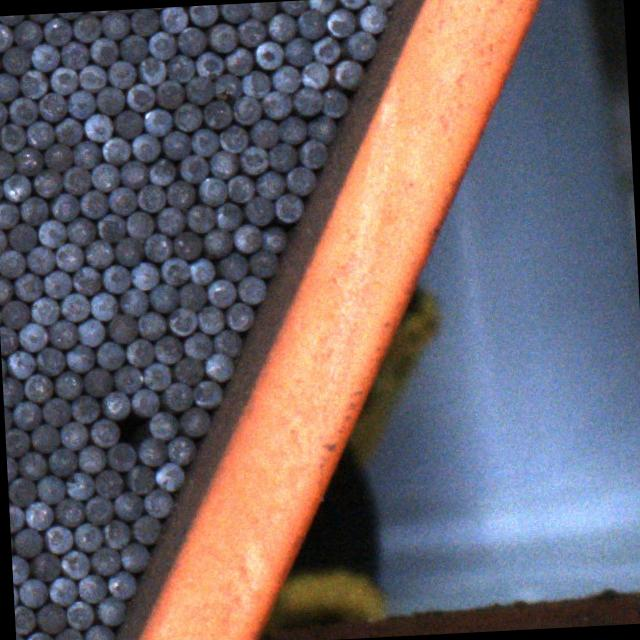tool: (331, 59, 363, 90), (35, 603, 66, 634), (344, 29, 375, 59), (292, 86, 323, 116), (192, 380, 222, 410), (286, 166, 316, 196), (60, 548, 90, 578), (148, 282, 178, 312), (30, 550, 60, 580), (284, 36, 314, 66), (178, 408, 208, 438), (112, 490, 142, 520), (33, 168, 63, 198), (162, 382, 192, 412), (208, 22, 238, 52), (14, 528, 44, 558), (203, 100, 232, 130), (36, 474, 65, 504), (249, 117, 278, 147), (95, 212, 124, 242), (177, 27, 206, 57), (253, 40, 282, 70), (72, 524, 101, 554), (240, 145, 269, 175), (272, 65, 302, 94), (164, 180, 193, 210), (106, 442, 136, 471), (119, 542, 148, 572), (298, 139, 328, 168), (90, 546, 120, 575), (106, 570, 135, 600), (233, 222, 262, 252), (154, 462, 183, 492), (218, 123, 248, 152), (114, 237, 143, 267), (143, 488, 172, 518), (154, 80, 183, 110), (129, 260, 158, 290), (205, 352, 234, 382), (40, 396, 70, 425), (84, 368, 114, 397), (24, 247, 54, 276), (48, 448, 78, 477), (100, 390, 129, 420), (48, 319, 78, 348), (14, 272, 43, 302), (166, 434, 195, 464), (308, 115, 338, 144), (245, 196, 274, 226), (296, 8, 325, 38), (13, 399, 42, 429), (167, 308, 197, 337), (143, 360, 172, 390), (202, 228, 231, 258), (218, 253, 248, 282), (248, 248, 277, 278), (260, 91, 290, 120), (132, 515, 162, 544), (42, 16, 72, 45), (118, 159, 147, 188), (66, 89, 95, 118), (66, 601, 95, 630), (82, 113, 111, 142), (114, 365, 143, 394), (29, 296, 58, 325), (232, 96, 261, 125), (101, 10, 130, 39), (126, 339, 155, 368), (107, 315, 136, 344), (70, 395, 99, 424), (19, 578, 48, 607), (76, 573, 105, 602), (154, 336, 183, 365), (172, 230, 201, 259), (83, 496, 112, 525), (48, 67, 77, 96), (35, 348, 64, 377), (59, 41, 88, 70), (186, 204, 215, 233), (67, 217, 96, 246), (325, 7, 354, 36), (30, 423, 59, 452), (119, 34, 148, 63), (65, 472, 94, 501), (91, 419, 120, 448), (53, 498, 82, 527), (95, 342, 124, 371), (85, 240, 114, 269), (13, 147, 42, 176), (50, 193, 79, 222), (76, 445, 105, 474), (114, 110, 143, 139), (65, 343, 94, 372), (94, 468, 123, 497), (72, 13, 101, 42), (173, 355, 202, 384), (274, 192, 302, 222), (138, 436, 166, 466), (278, 116, 308, 144), (100, 263, 128, 293), (8, 98, 38, 126), (60, 291, 88, 321), (17, 452, 45, 482), (126, 464, 154, 494), (48, 576, 76, 606), (2, 44, 30, 74), (79, 188, 107, 218), (130, 8, 160, 36), (186, 75, 214, 105), (255, 170, 285, 198), (178, 280, 206, 310), (102, 519, 130, 549), (71, 264, 99, 294), (12, 20, 40, 50), (226, 302, 254, 332), (268, 142, 296, 172), (95, 85, 123, 114), (102, 138, 131, 166), (19, 323, 47, 352), (148, 32, 176, 61), (165, 53, 193, 82), (107, 187, 135, 216), (23, 373, 51, 402), (198, 177, 226, 206), (88, 37, 116, 66), (236, 276, 265, 304), (144, 234, 172, 263), (18, 71, 46, 100), (174, 102, 202, 131), (160, 256, 189, 284), (7, 351, 35, 380), (132, 134, 160, 163), (90, 163, 118, 192), (178, 154, 207, 182), (190, 128, 218, 157), (60, 422, 88, 451), (196, 305, 224, 334), (130, 387, 158, 416), (214, 328, 243, 356), (136, 311, 164, 340), (44, 142, 72, 171), (144, 106, 173, 134), (119, 288, 148, 316), (54, 370, 82, 399), (8, 222, 37, 250), (125, 210, 153, 239), (358, 5, 386, 34), (184, 331, 213, 359), (223, 46, 252, 74), (53, 116, 82, 144), (210, 151, 238, 180), (98, 597, 126, 626), (64, 166, 92, 195), (322, 89, 350, 118), (313, 35, 341, 64), (214, 73, 242, 102), (138, 184, 166, 212), (78, 65, 106, 93), (55, 244, 83, 272), (24, 502, 52, 530), (38, 92, 66, 120), (42, 526, 70, 554), (206, 278, 234, 306), (242, 70, 270, 98), (108, 61, 136, 89), (31, 44, 59, 72), (44, 270, 72, 298), (26, 120, 54, 148), (138, 56, 166, 84), (36, 220, 64, 248), (162, 132, 190, 160), (194, 50, 222, 78), (71, 142, 99, 170), (125, 84, 153, 112), (266, 12, 294, 40), (238, 18, 266, 46), (20, 196, 48, 224), (78, 318, 106, 346), (300, 62, 328, 90), (148, 412, 177, 439), (156, 207, 183, 236), (0, 299, 27, 328), (216, 201, 243, 230), (8, 476, 34, 506), (226, 175, 254, 202), (90, 292, 117, 320), (148, 158, 175, 186), (2, 175, 30, 202), (158, 7, 187, 33), (0, 124, 26, 153), (260, 226, 288, 252), (190, 258, 216, 286), (0, 248, 24, 277), (6, 426, 28, 456), (188, 5, 217, 26), (0, 72, 19, 101), (218, 4, 248, 22), (15, 606, 34, 634), (3, 376, 21, 404), (0, 326, 17, 355), (12, 554, 28, 584), (0, 201, 17, 229), (249, 2, 277, 19), (86, 625, 115, 640), (0, 148, 14, 178), (10, 504, 24, 532), (280, 1, 308, 14), (55, 628, 84, 640), (309, 0, 337, 12), (0, 275, 11, 304), (0, 22, 10, 51), (7, 456, 17, 484), (25, 631, 54, 640), (367, 0, 396, 9), (0, 15, 25, 25), (337, 0, 365, 8), (26, 14, 54, 22), (4, 406, 12, 433), (0, 99, 6, 128), (0, 225, 6, 253), (55, 12, 83, 18), (16, 633, 25, 640), (0, 177, 2, 205)
